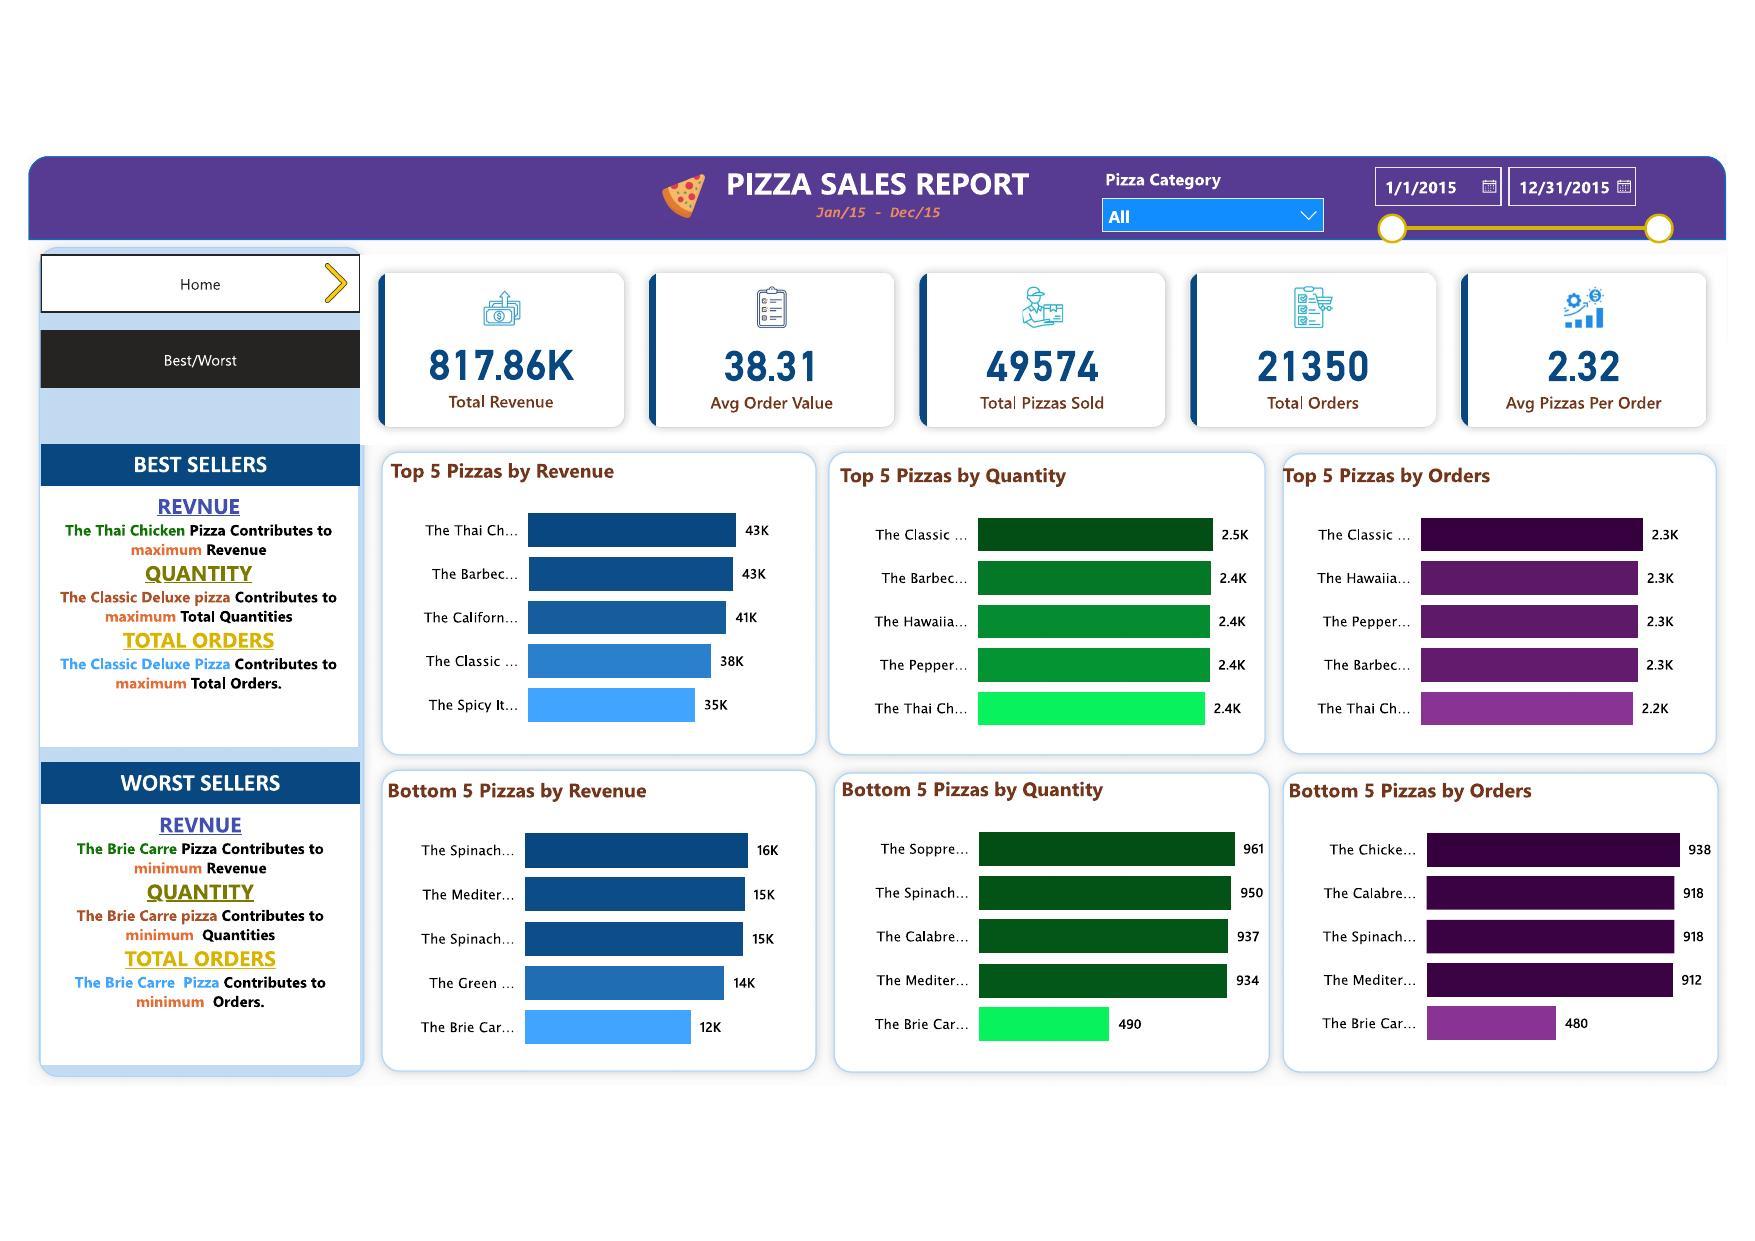

Layout of this report page (visuals, bound fields, positions):
{"tool":"powerbi","page":{"name":"Best/Worst","canvas":[1500,820],"ordinal":1},"visuals":[{"type":"shape","box":[1.6,72.4,302.3,747.8],"z":0},{"type":"shape","box":[0,0,1498.9,73.6],"z":1000},{"type":"cardVisual","fields":{"Data":["pizza_sales.Total Revenue","pizza_sales.Avg Order Value","pizza_sales.Total Pizzas Sold","pizza_sales.Total Orders","pizza_sales.Avg Pizzas Per Order"]},"box":[293,87.2,1205.9,167.6],"z":2000},{"type":"textbox","box":[600.9,0,298.4,51.8],"z":3000},{"type":"image","box":[554.6,16.4,46.3,38.2],"z":4000},{"type":"textbox","box":[682.1,34.9,137.2,33.7],"z":5000},{"type":"shape","box":[303.9,253.5,400.6,282.1],"z":6000},{"type":"textbox","box":[11.3,254.1,281.4,37],"z":7000},{"type":"textbox","box":[9.6,291.1,281.4,230],"z":8000},{"type":"textbox","box":[11.3,535.5,281.4,37],"z":9000},{"type":"textbox","box":[11.3,572.5,281.4,230],"z":10000},{"type":"slicer","fields":{"Values":["pizza_sales.pizza_category"]},"box":[937.5,5.5,216.7,61.3],"z":11000},{"type":"slicer","fields":{"Values":["pizza_sales.order_date"]},"box":[1176,0,284.8,85.8],"z":12000},{"type":"shape","box":[699,253.5,400.6,282.1],"z":13000},{"type":"shape","box":[1099.7,254.8,399.3,280.7],"z":14000},{"type":"shape","box":[303.9,534.2,400.6,282.1],"z":15000},{"type":"shape","box":[704.5,535.5,399.3,280.7],"z":16000},{"type":"shape","box":[1099.7,535.5,400.6,280.7],"z":17000},{"type":"barChart","title":"Top 5 Pizzas by Revenue","fields":{"Category":["pizza_sales.pizza_name"],"Y":["pizza_sales.Total Revenue"]},"box":[315.2,265.3,384.3,255.7],"z":18000},{"type":"barChart","title":"Bottom 5 Pizzas by Revenue","fields":{"Category":["pizza_sales.pizza_name"],"Y":["pizza_sales.Total Revenue"]},"box":[312,546.7,384.3,258.9],"z":19000},{"type":"barChart","title":"Top 5 Pizzas by Quantity","fields":{"Category":["pizza_sales.pizza_name"],"Y":["pizza_sales.Total Pizzas Sold"]},"box":[712.4,268.5,384.3,255.7],"z":20000},{"type":"barChart","title":"Bottom 5 Pizzas by Quantity","fields":{"Category":["pizza_sales.pizza_name"],"Y":["pizza_sales.Total Pizzas Sold"]},"box":[712.7,546.4,384.3,256.2],"z":21000},{"type":"barChart","title":"Top 5 Pizzas by Orders","fields":{"Category":["pizza_sales.pizza_name"],"Y":["pizza_sales.Total Orders"]},"box":[1103.1,268.5,384.3,255.7],"z":22000},{"type":"barChart","title":"Bottom 5 Pizzas by Orders","fields":{"Category":["pizza_sales.pizza_name"],"Y":["pizza_sales.Total Orders"]},"box":[1108,546.7,384.3,255.7],"z":23000},{"type":"pageNavigator","box":[10.9,87.2,282.1,50.4],"z":24000},{"type":"image","box":[250.7,95.4,40.9,34.1],"z":25000},{"type":"pageNavigator","box":[10.9,154,282.1,50.4],"z":26000}]}

Visuals, with their boxes on the page's 1500x820 design canvas (x1, y1, x2, y2). These are canvas units, not pixel positions in the 1755x1241 screenshot, which may show the page scaled, cropped or inside an application window:
shape: BBox(2, 72, 304, 820)
shape: BBox(0, 0, 1499, 74)
cardVisual - pizza_sales.Total Revenue x pizza_sales.Avg Order Value: BBox(293, 87, 1499, 255)
textbox: BBox(601, 0, 899, 52)
image: BBox(555, 16, 601, 55)
textbox: BBox(682, 35, 819, 69)
shape: BBox(304, 254, 704, 536)
textbox: BBox(11, 254, 293, 291)
textbox: BBox(10, 291, 291, 521)
textbox: BBox(11, 536, 293, 572)
textbox: BBox(11, 572, 293, 802)
slicer - pizza_sales.pizza_category: BBox(938, 6, 1154, 67)
slicer - pizza_sales.order_date: BBox(1176, 0, 1461, 86)
shape: BBox(699, 254, 1100, 536)
shape: BBox(1100, 255, 1499, 536)
shape: BBox(304, 534, 704, 816)
shape: BBox(704, 536, 1104, 816)
shape: BBox(1100, 536, 1500, 816)
"Top 5 Pizzas by Revenue" barChart: BBox(315, 265, 700, 521)
"Bottom 5 Pizzas by Revenue" barChart: BBox(312, 547, 696, 806)
"Top 5 Pizzas by Quantity" barChart: BBox(712, 268, 1097, 524)
"Bottom 5 Pizzas by Quantity" barChart: BBox(713, 546, 1097, 803)
"Top 5 Pizzas by Orders" barChart: BBox(1103, 268, 1487, 524)
"Bottom 5 Pizzas by Orders" barChart: BBox(1108, 547, 1492, 802)
pageNavigator: BBox(11, 87, 293, 138)
image: BBox(251, 95, 292, 130)
pageNavigator: BBox(11, 154, 293, 204)
